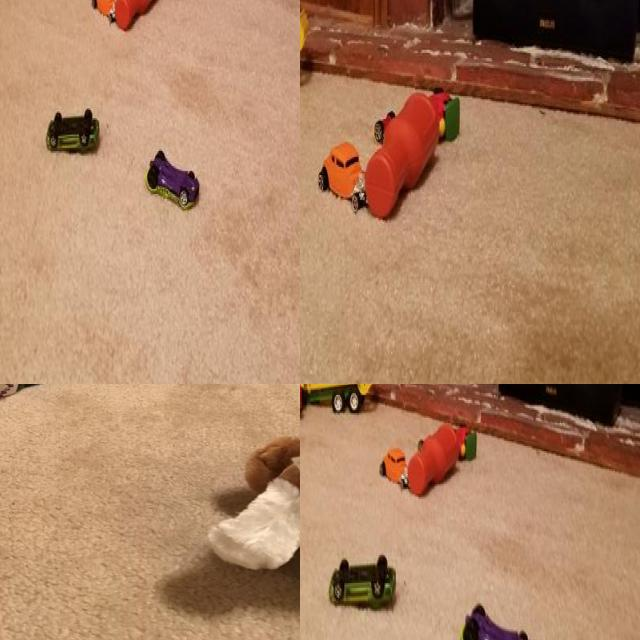toy: (229, 426, 300, 600), (368, 78, 440, 236), (141, 142, 201, 226), (315, 140, 371, 216), (328, 552, 397, 609), (410, 420, 459, 500), (45, 99, 100, 158), (460, 598, 537, 640), (424, 77, 459, 147), (301, 384, 377, 415), (375, 437, 413, 488), (111, 0, 179, 27), (367, 93, 398, 140), (454, 406, 477, 460), (88, 0, 119, 38)
